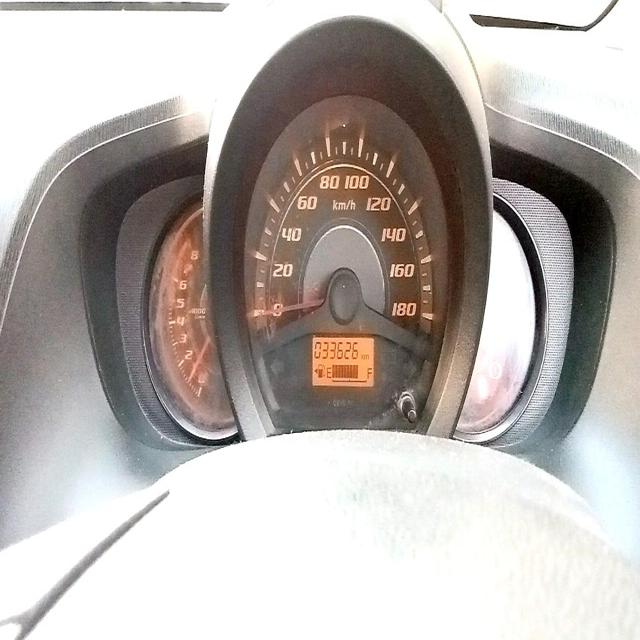odometer: (314, 339, 359, 360)
